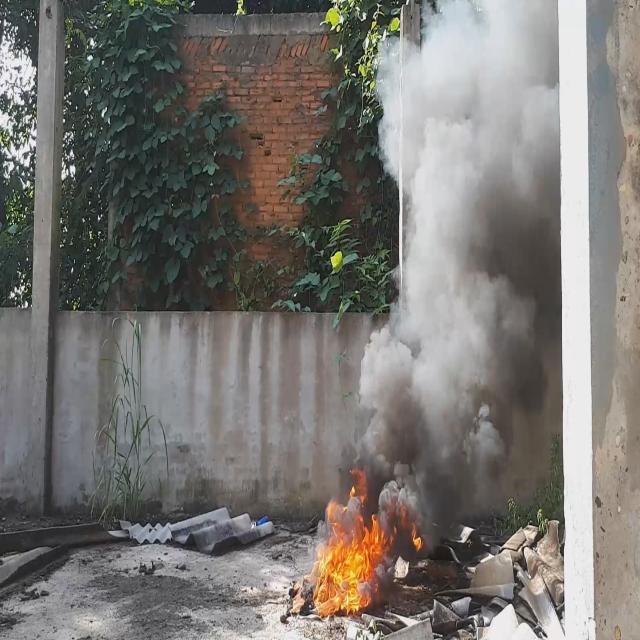Fire: (312, 494, 392, 616)
Smoke: (356, 0, 556, 541)
